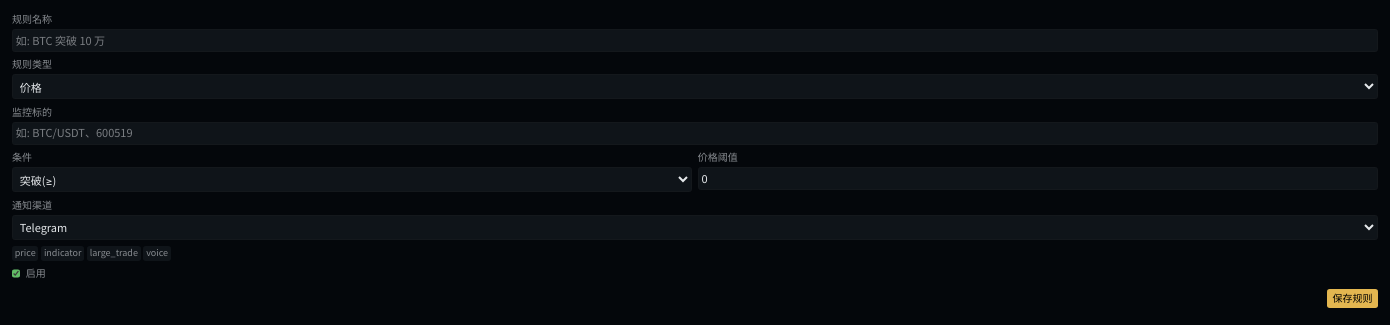
AlertRuleForm(预警规则表单) › voice 类型关键词为空 → 校验错误
Type "语音预警" into the field labelled "规则名称" at x=695, y=40, box [12, 29, 1378, 52]
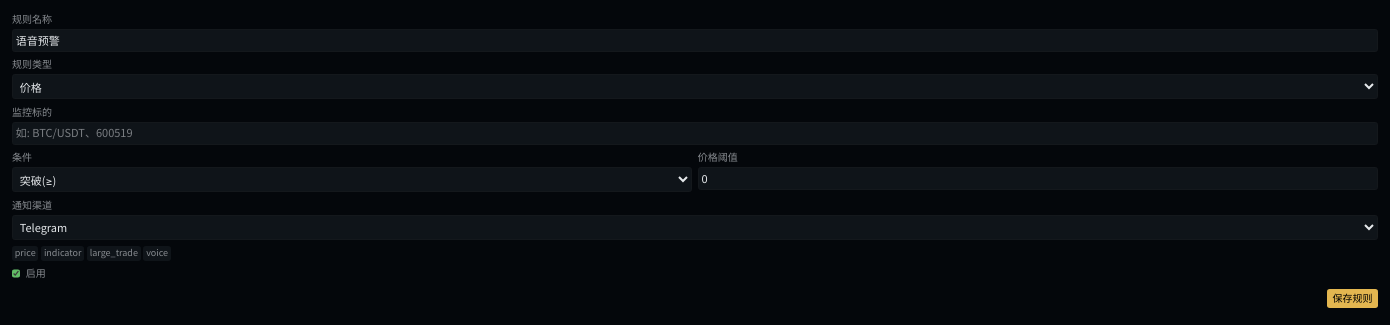
Select "语音" in the dropdown labelled "规则类型" at x=695, y=87, box [12, 74, 1378, 99]
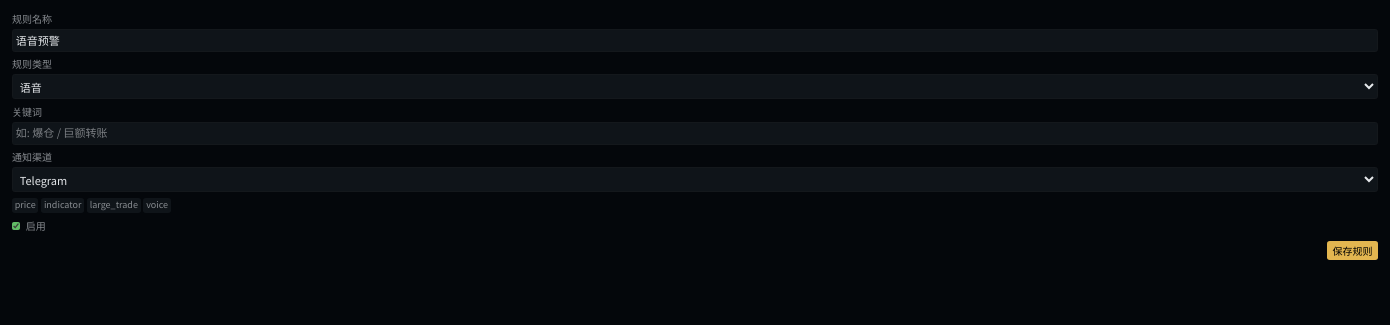
Click the button "保存规则" at x=1352, y=251, box [1327, 241, 1378, 260]
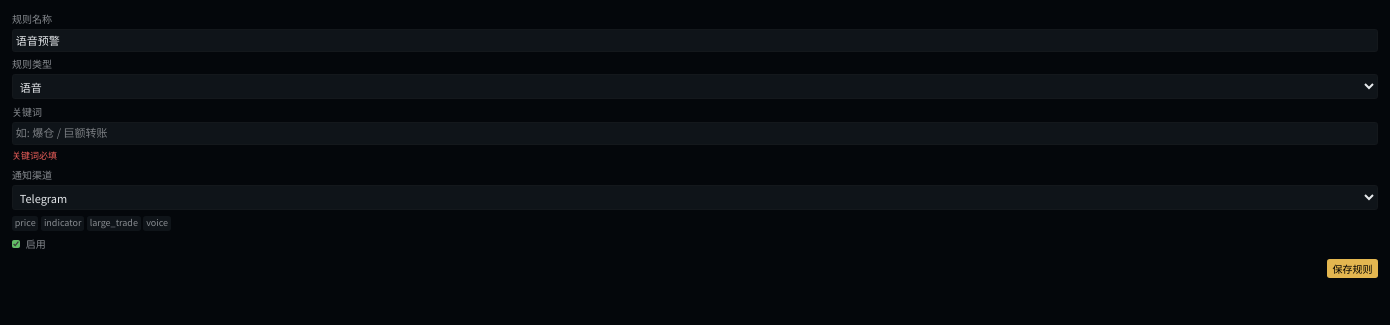
Check: the text "关键词必填" is shown, box [12, 149, 57, 162]
